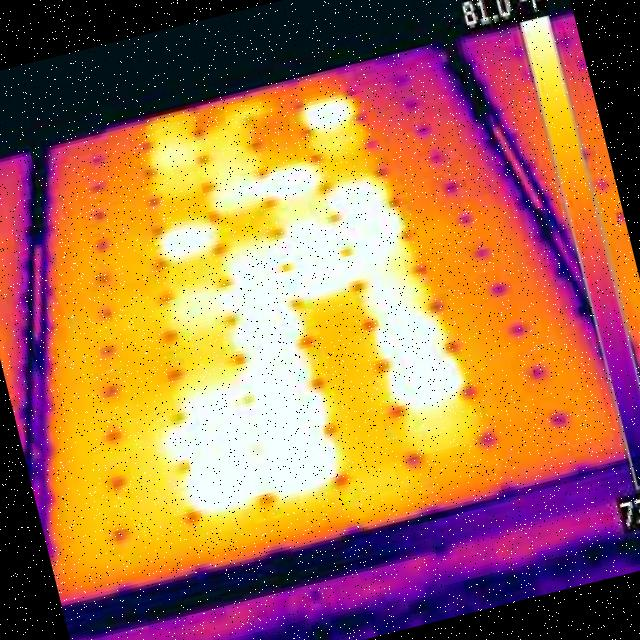Hotspot: (320, 162, 468, 420), (218, 234, 348, 506), (150, 364, 286, 528), (131, 105, 213, 228), (273, 186, 353, 308), (188, 92, 282, 182), (203, 154, 324, 218), (148, 201, 224, 271), (164, 276, 238, 340), (295, 86, 367, 140)
